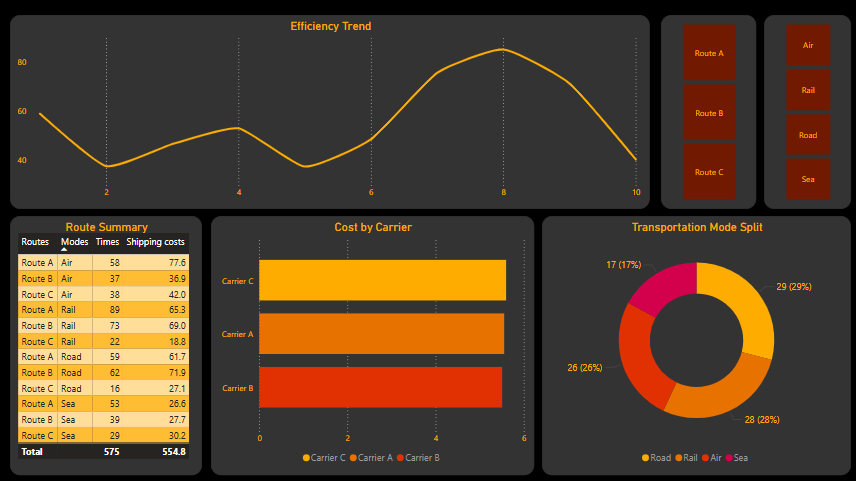

The page's visual inventory and layout, read from the dashboard file:
{"tool":"powerbi","page":{"name":"Transportation Efficiency","canvas":[1280,720],"ordinal":4},"visuals":[{"type":"barChart","title":"Cost by Carrier","fields":{"Y":["Avg(Cleaned_Data.Shipping costs)"],"Category":["Cleaned_Data.Shipping carriers"],"Series":["Cleaned_Data.Shipping carriers"]},"box":[310,323.3,474.6,380.6],"z":0},{"type":"donutChart","title":"Transportation Mode Split","fields":{"Category":["Cleaned_Data.Transportation modes"],"Y":["CountNonNull(Cleaned_Data.Transportation modes)"]},"box":[796.4,323.3,454,380.6],"z":1000},{"type":"tableEx","title":"Route Summary","fields":{"Values":["Cleaned_Data.Routes","Cleaned_Data.Transportation modes","Sum(Cleaned_Data.Shipping times)","Sum(Cleaned_Data.Shipping costs)"]},"box":[14.7,323.3,282.1,380.6],"z":2000},{"type":"lineChart","title":"Efficiency Trend","fields":{"Category":["Cleaned_Data.Shipping times"],"Y":["Sum(Cleaned_Data.Shipping costs)"]},"box":[14.7,27.9,940.4,285.1],"z":3000},{"type":"slicer","fields":{"Values":["Cleaned_Data.Transportation modes"]},"box":[1122.6,27.9,127.8,285.1],"z":4000},{"type":"slicer","fields":{"Values":["Cleaned_Data.Routes"]},"box":[971.3,27.9,139.6,285.1],"z":5000}]}

Visuals, with their boxes in screenshot pixels (x1, y1, x2, y2), scaled from the page's 1280x720 canvas onto the 856x481 screenshot:
"Cost by Carrier" barChart: [207, 216, 525, 470]
"Transportation Mode Split" donutChart: [533, 216, 836, 470]
"Route Summary" tableEx: [10, 216, 198, 470]
"Efficiency Trend" lineChart: [10, 19, 639, 209]
slicer - Cleaned_Data.Transportation modes: [751, 19, 836, 209]
slicer - Cleaned_Data.Routes: [650, 19, 743, 209]
